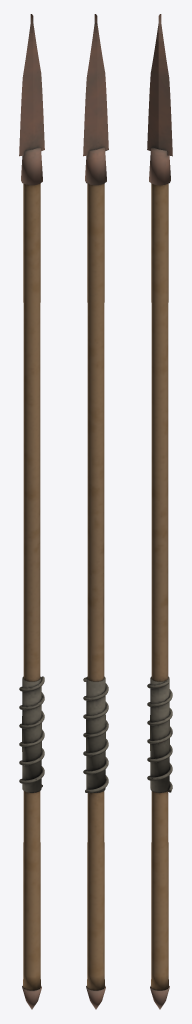
File: arma_lanca_enferrujada.glb
3 views of the same model, side by side, from view 1: azimuth 30°, elevation 25°; view 2: azimuth 210°, elevation 25°; view 3: azimuth 330°, elevation 25° (orthographic).
Visible parts, largest first — view 1: arma_lanca_enferrujada; view 2: arma_lanca_enferrujada; view 3: arma_lanca_enferrujada.
Part boxes in pixels (box(x1,y1,x2,y2)): arma_lanca_enferrujada: box(19, 14, 44, 1009); arma_lanca_enferrujada: box(83, 14, 108, 1009); arma_lanca_enferrujada: box(147, 14, 172, 1009).
Bounding box in the file's own units: 0.0585 × 2.16 × 0.0504.
Materials: 1 (1 with a texture image).
